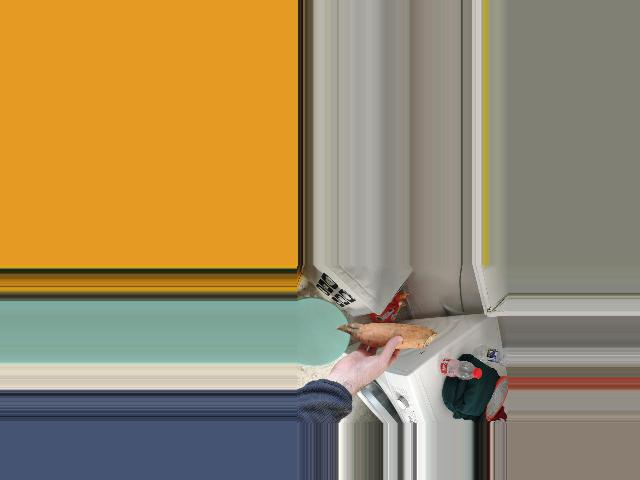sweet_potato: (343, 321, 429, 353)
